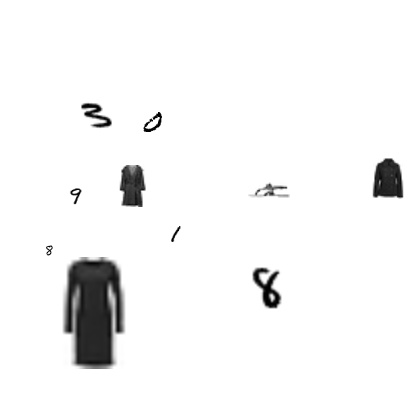0: (139, 109, 167, 137)
1: (164, 223, 186, 245)
3: (74, 93, 116, 135)
8: (239, 260, 295, 316), (42, 243, 56, 257)
9: (65, 183, 87, 205)
Coat: (367, 157, 409, 199)
Dress: (36, 257, 148, 369), (111, 165, 153, 207)
Sandal: (248, 169, 290, 211)
